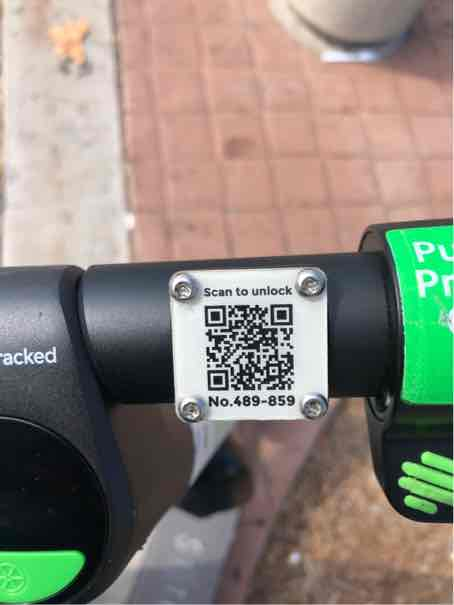scooter: (7, 59, 428, 605)
